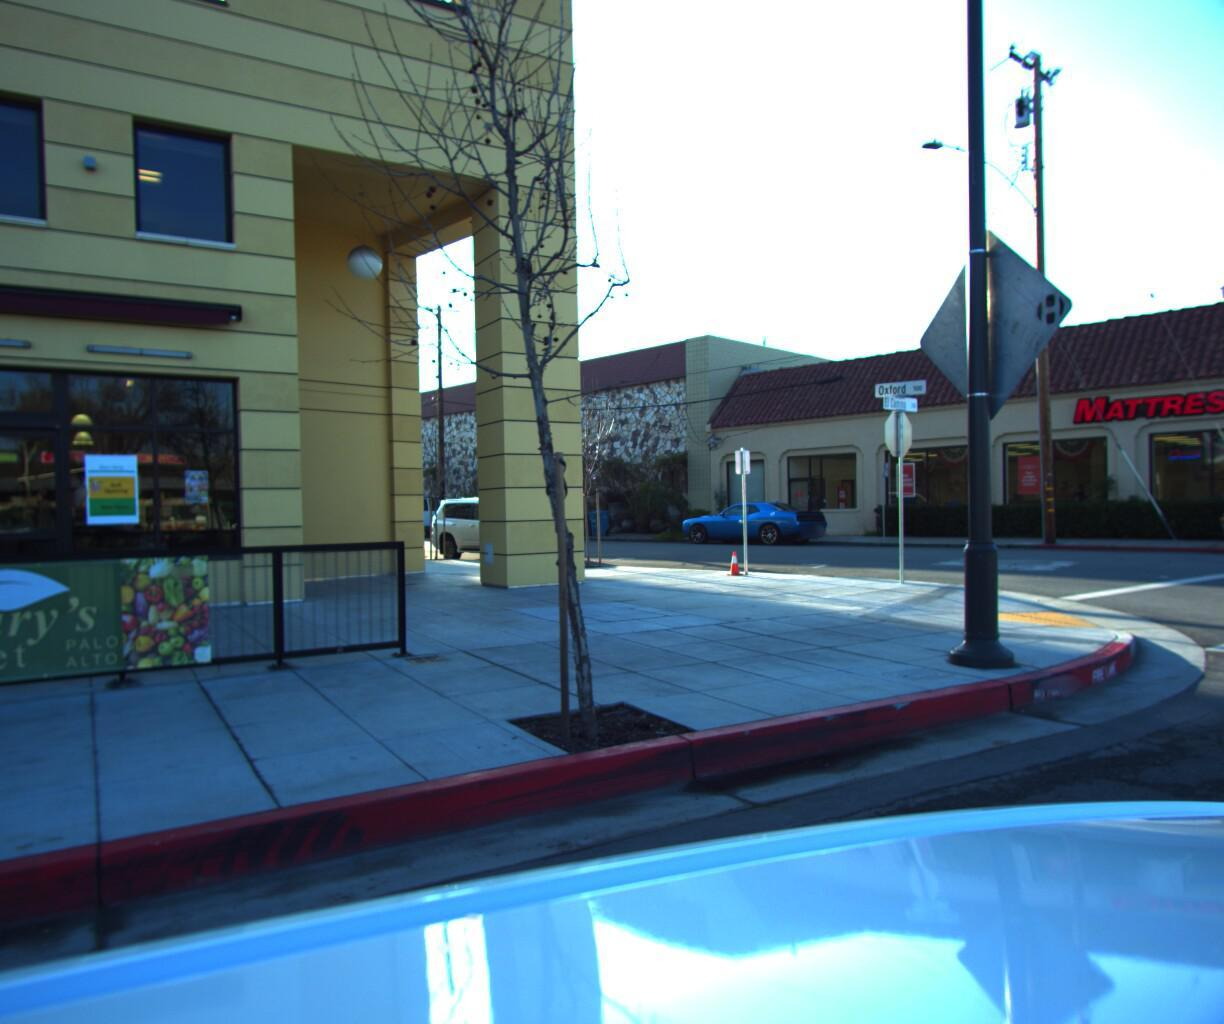car: (424, 488, 582, 560), (678, 493, 832, 544), (365, 492, 447, 539)
